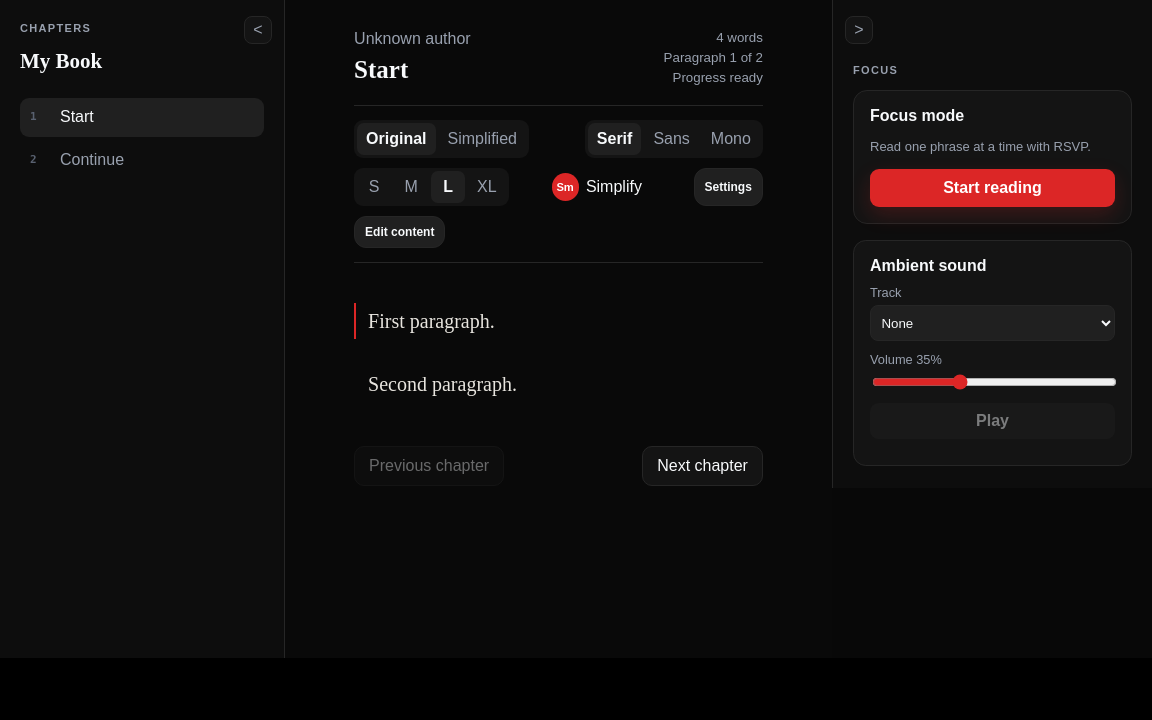
reader desktop shell › deletes a complete chapter from the editor and opens the adjacent chapter
The width and height of the screenshot is (1152, 720).
Expected: the text "First paragraph." is shown, [354,303,763,339]
Click the button "Edit content" at (400, 232), box [354,216,445,248]
(page scrolled)
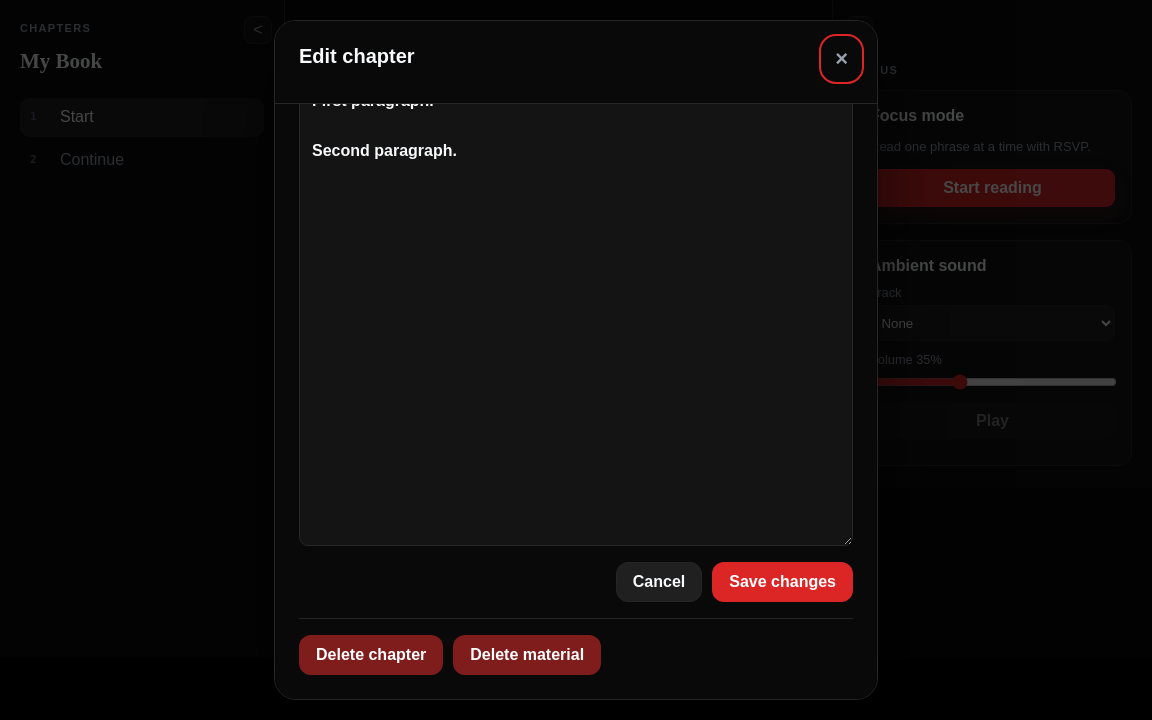
Click the button "Delete chapter" at (371, 655), box [299,635,443,675]
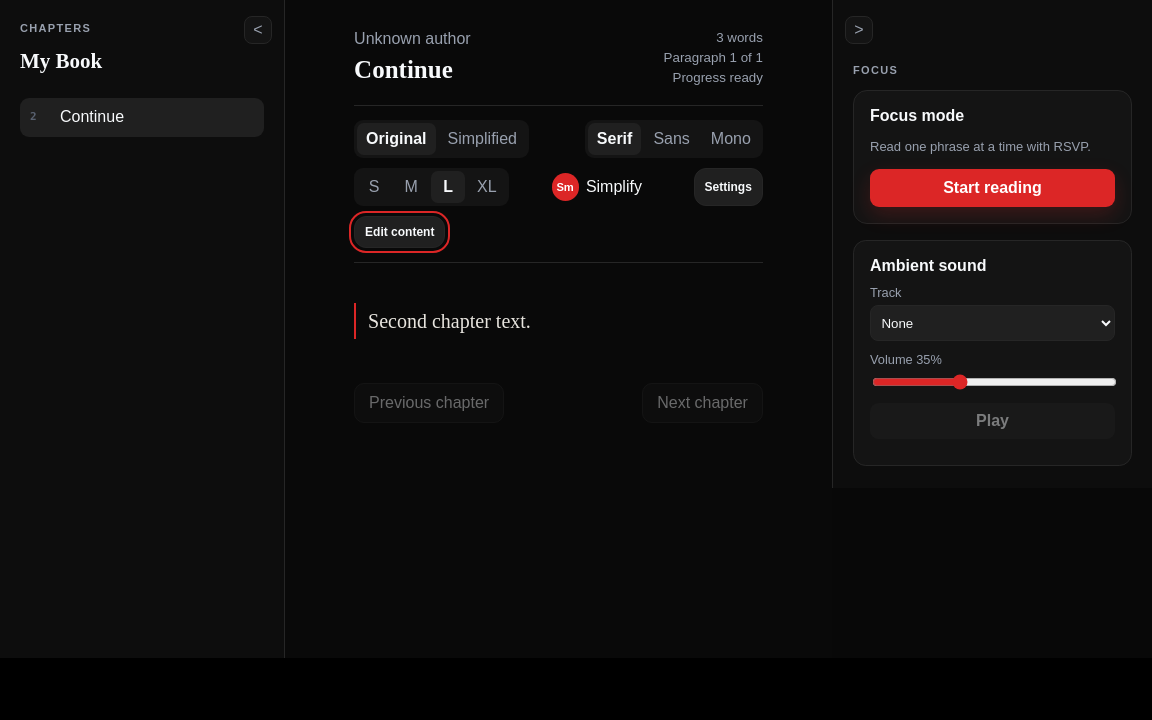
Expected: the text "Second chapter text." is shown, [354,303,763,339]
